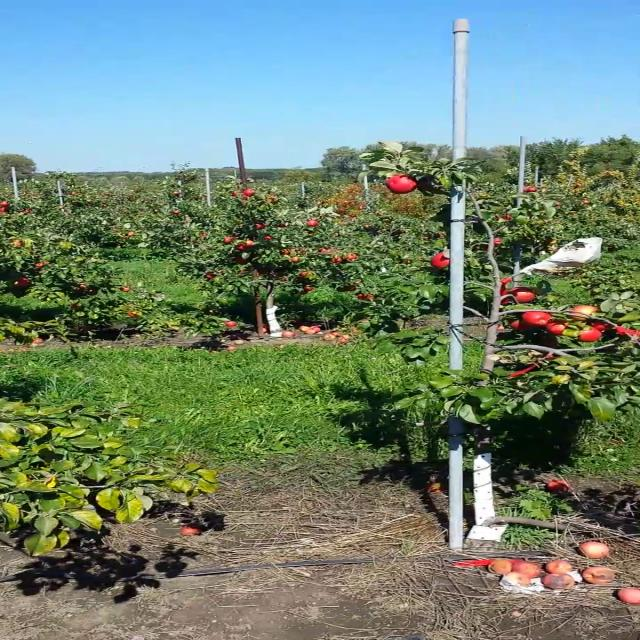apple: (384, 174, 419, 194), (522, 310, 553, 328), (570, 304, 601, 320), (505, 288, 536, 302), (577, 327, 603, 343), (431, 250, 451, 269), (546, 321, 570, 336), (506, 319, 532, 331), (617, 327, 638, 335), (589, 322, 611, 329)
